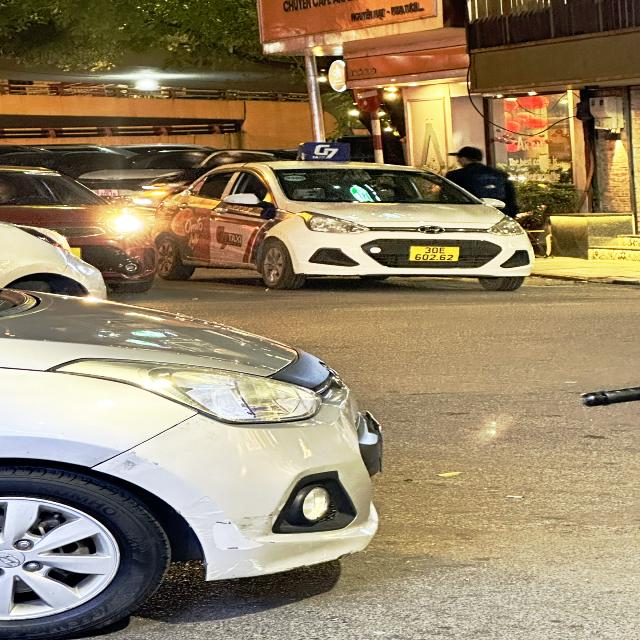license_plate: (409, 247, 462, 262)
